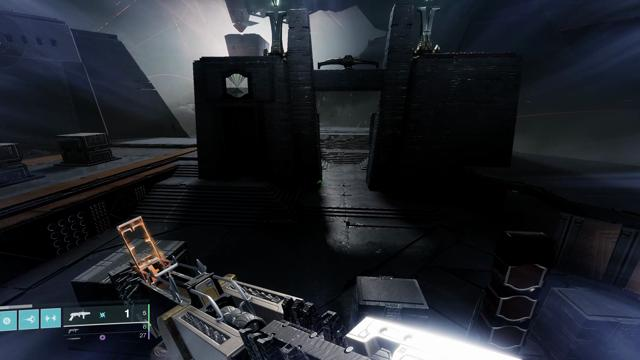kill: (226, 73, 249, 97)
